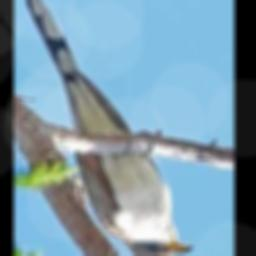Cuckoo: (24, 0, 195, 256)
